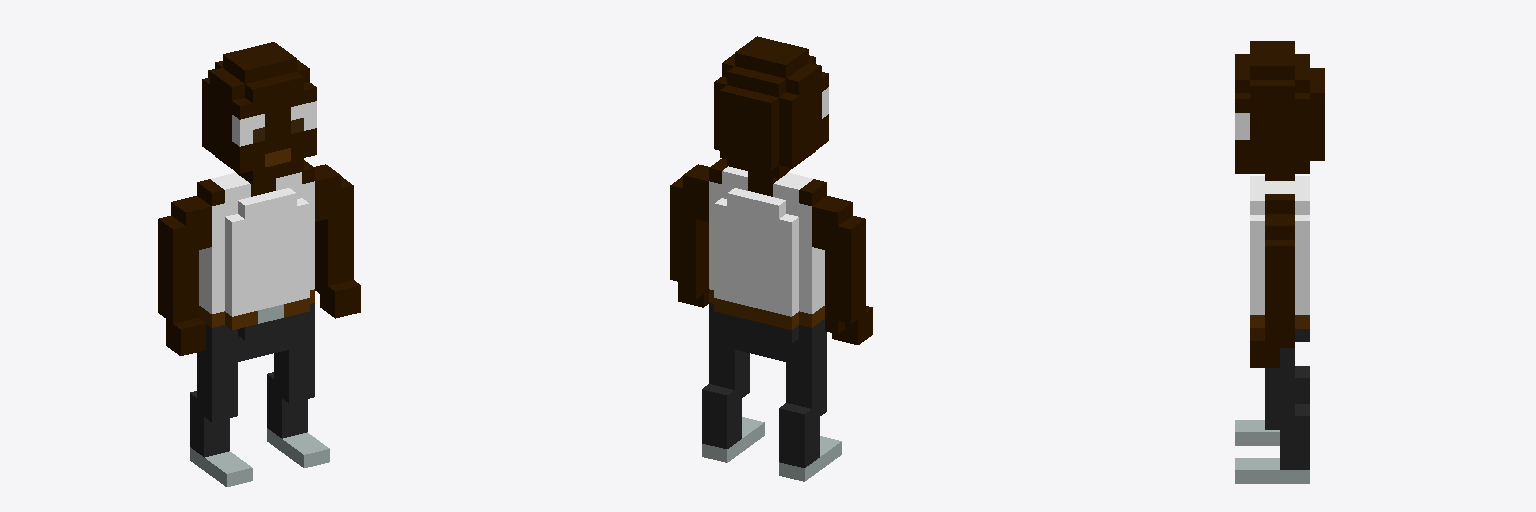
3 renders of one model, left to right at view 1: azimuth 30°, elevation 25°; view 2: azimuth 150°, elevation 25°; view 3: azimuth 270°, elevation 25°, orthographic.
Parts seen in each view (by area): view 1: object 1; view 2: object 1; view 3: object 1.
Part boxes in pixels (left/top/right/bottom): object 1: left=158, top=42, right=360, bottom=486; object 1: left=670, top=36, right=872, bottom=481; object 1: left=1235, top=41, right=1324, bottom=483.
Bounding box in the file's own units: 1.4 × 3 × 0.6.
1 materials, 1 textured.